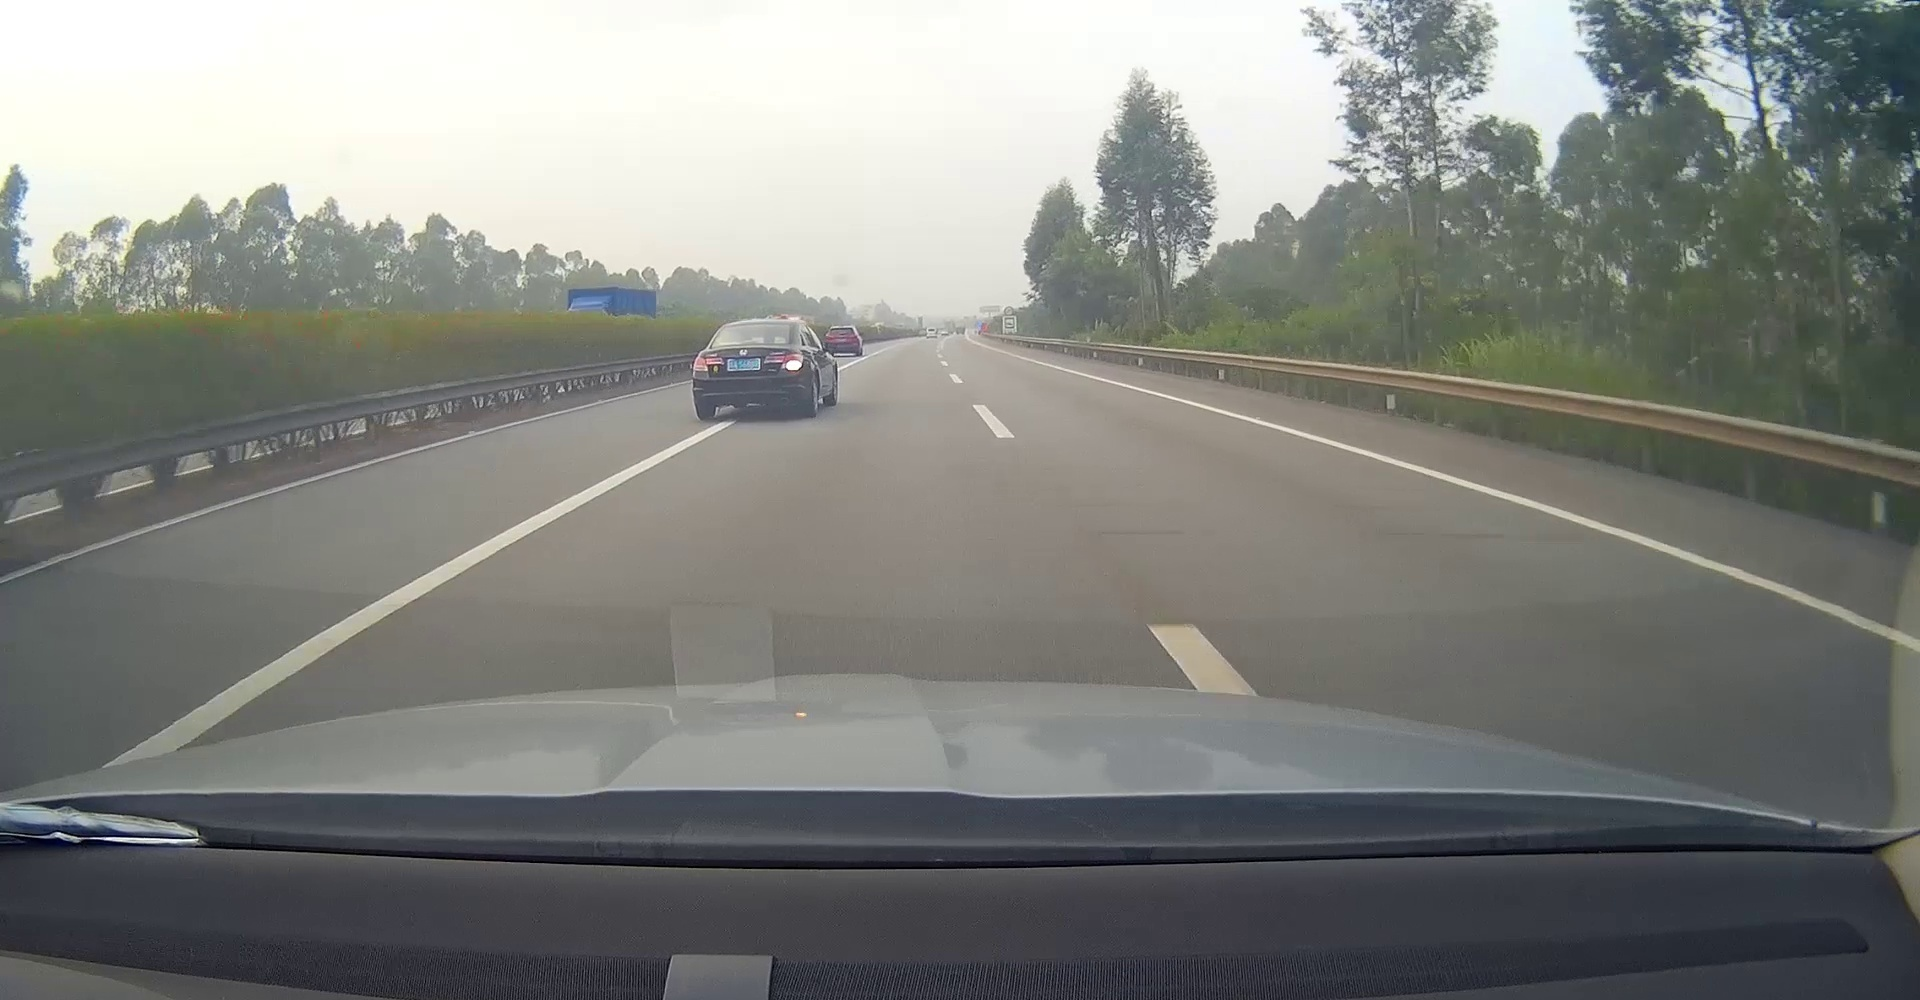L_light: (692, 355, 724, 371)
R_light: (764, 353, 804, 371)
T_light: (749, 324, 764, 327)
day-right: (691, 319, 808, 420)
